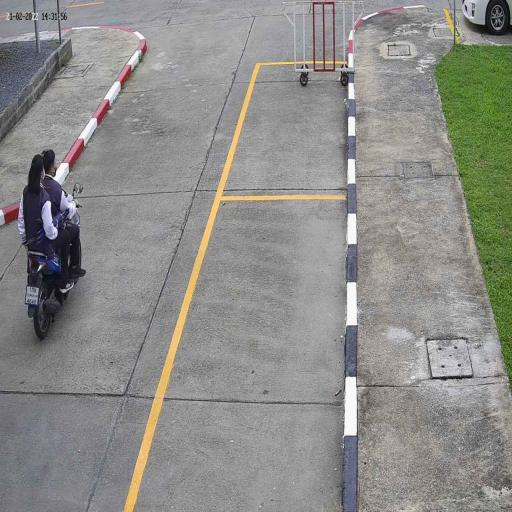motorcycle: (24, 238, 86, 342)
